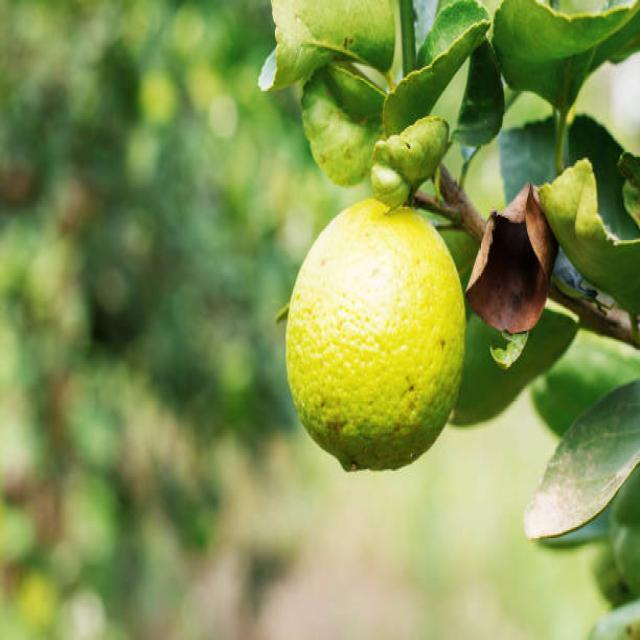Unripe: (284, 199, 465, 476)
